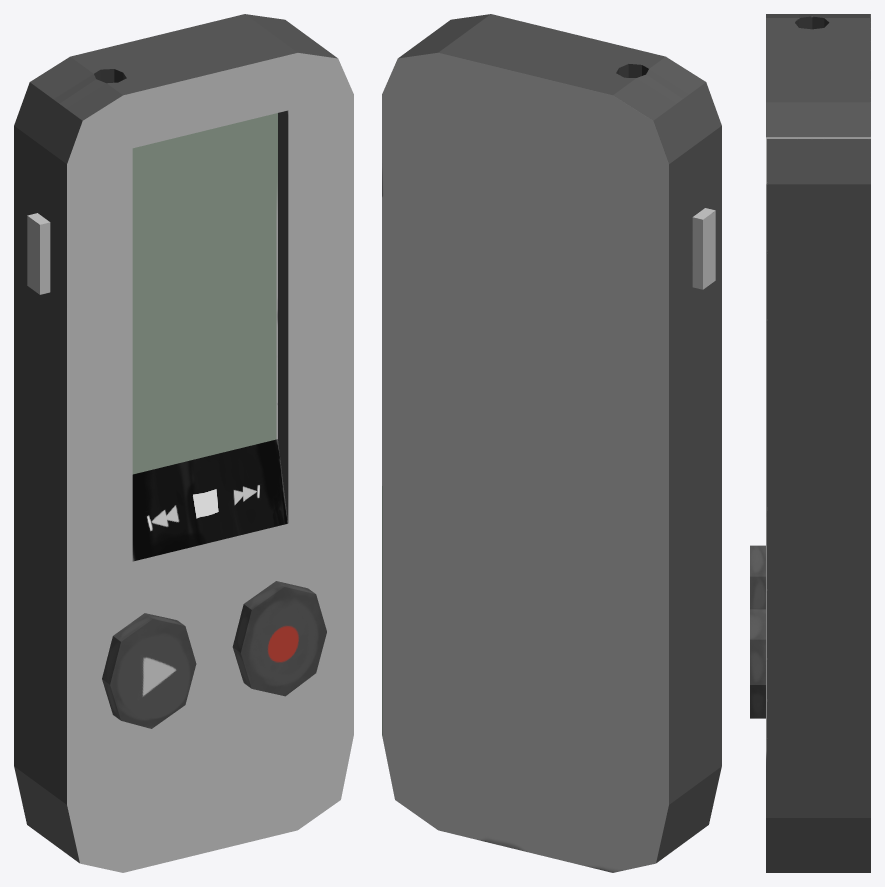
The model's file is recorder.fbx.
3 views of the same model, side by side, from view 1: azimuth 30°, elevation 25°; view 2: azimuth 150°, elevation 25°; view 3: azimuth 270°, elevation 25° (orthographic).
Visible parts, largest first — view 1: Cube; view 2: Cube; view 3: Cube.
Boxes of the visible parts, x1,y1,x2,y2 form: Cube: (14,14,353,872); Cube: (382,14,721,872); Cube: (750,14,870,872).
Size of the model in its own units: 207 by 518 by 73.78.
1 material, 1 textured.
